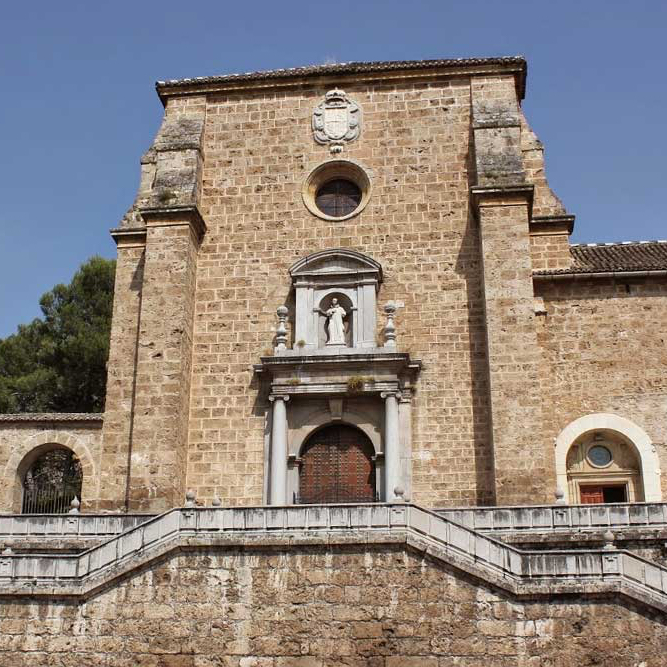arco-medio-punto: (292, 416, 377, 467), (12, 439, 83, 485), (314, 290, 357, 317)
fronton-curvo: (282, 246, 383, 283)
ojo-de-buey: (298, 160, 373, 217)
